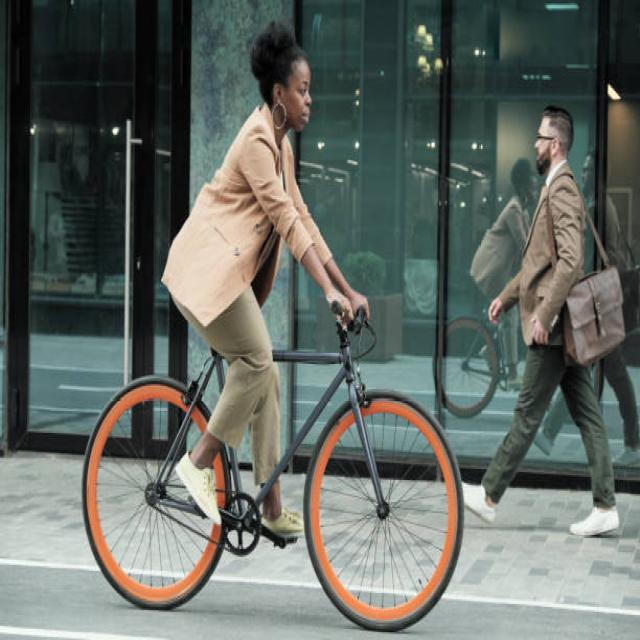bicycle: (82, 22, 462, 629)
